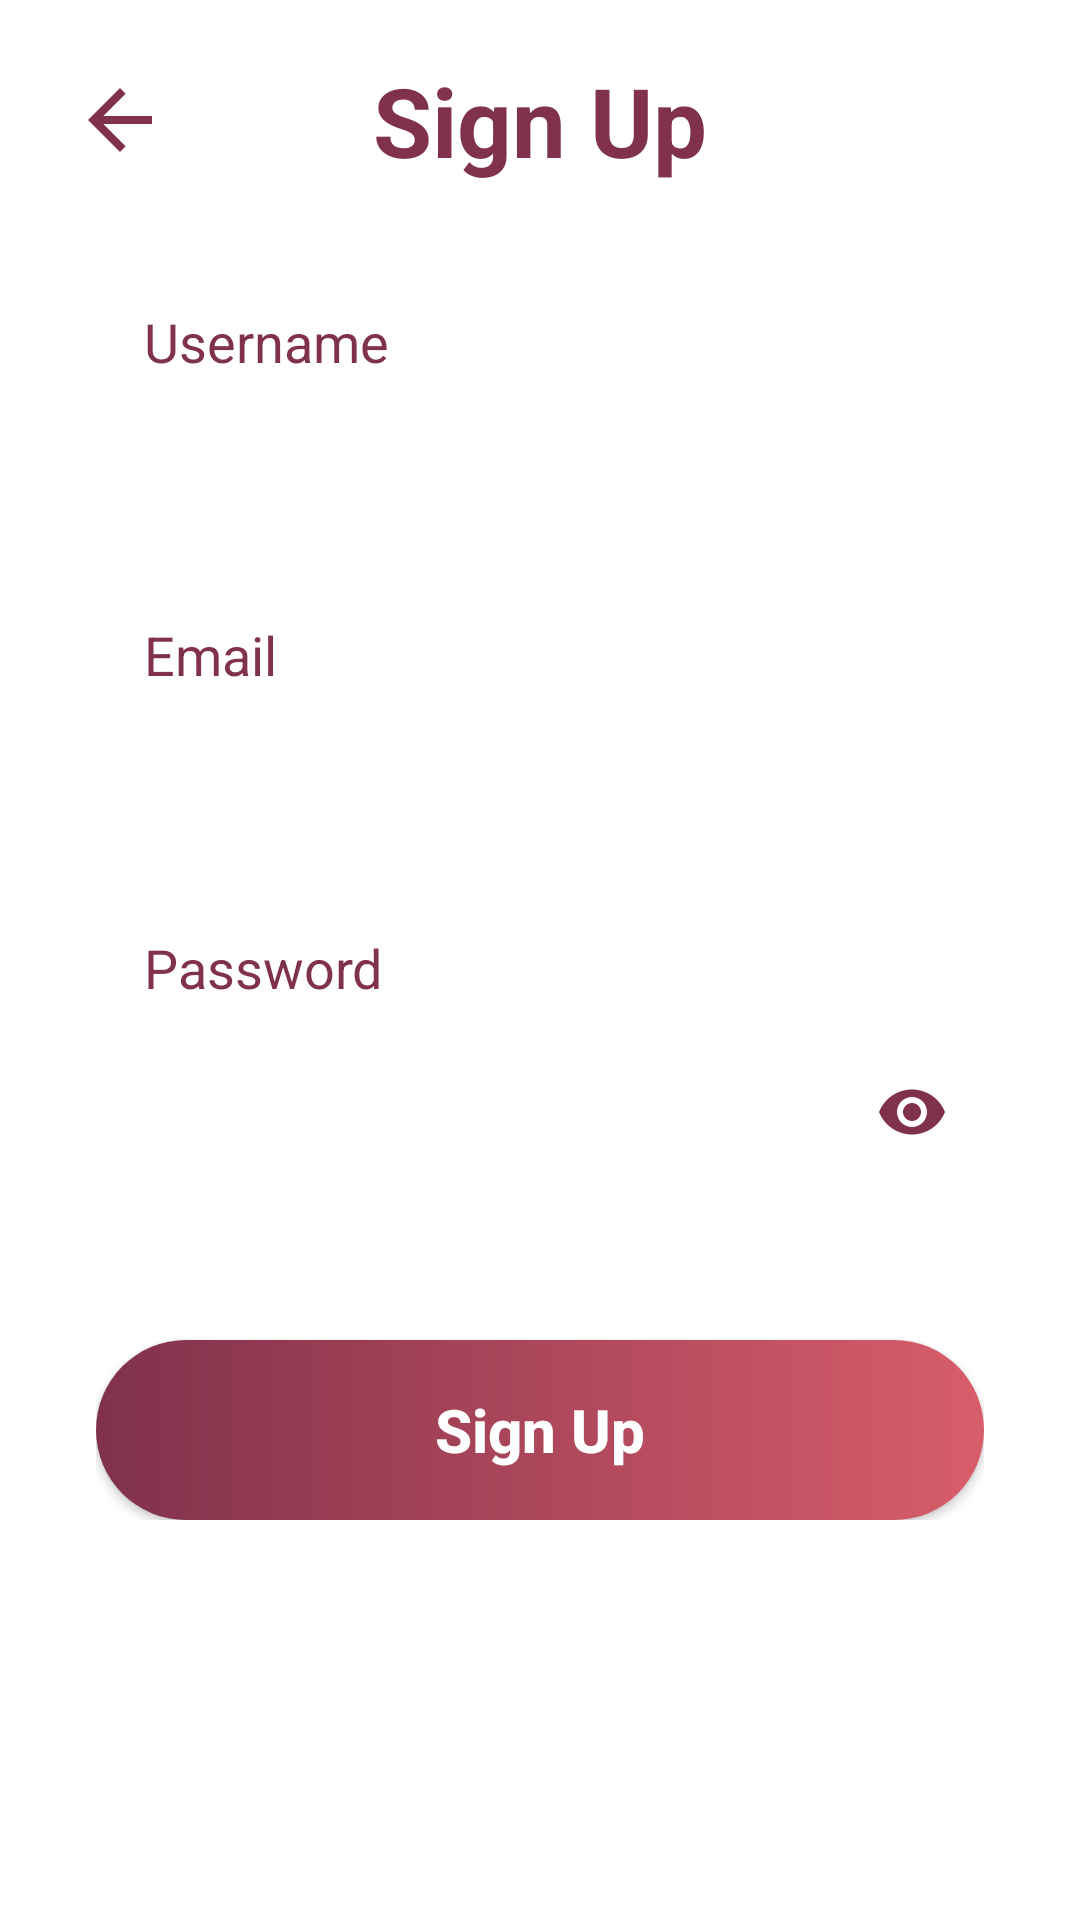

Named icons in this screenshot (1080px x 1920px) and their centers, point (x, y):
Back: point (120, 120)
